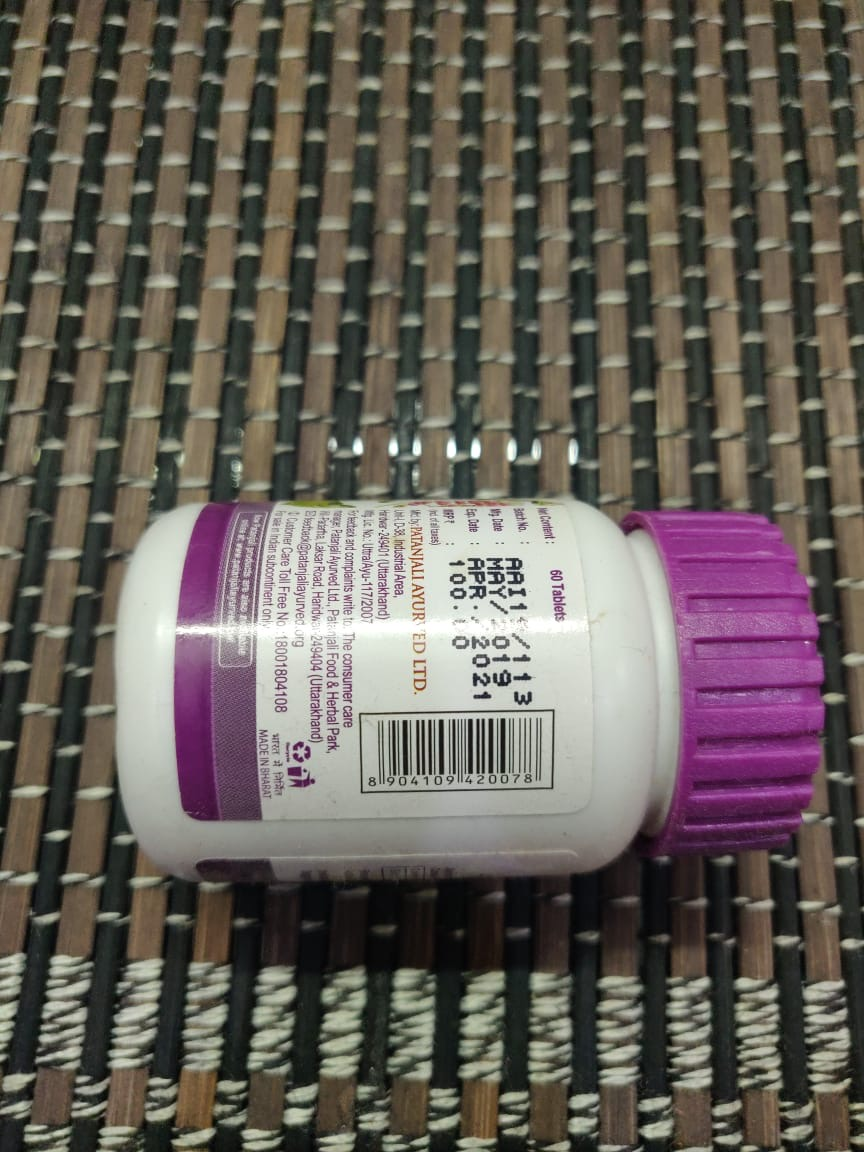barcode: (351, 704, 559, 795)
